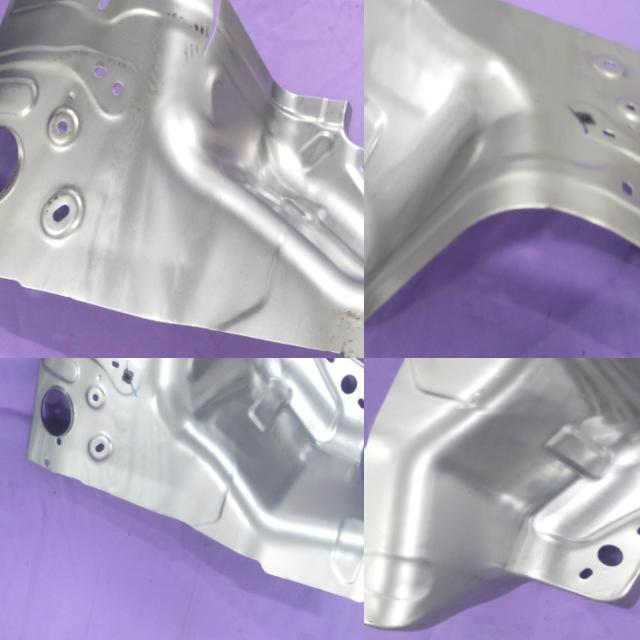Defect: (189, 0, 242, 76)
Healthy: (364, 0, 640, 358), (0, 358, 364, 608)
rust: (98, 0, 172, 9)
